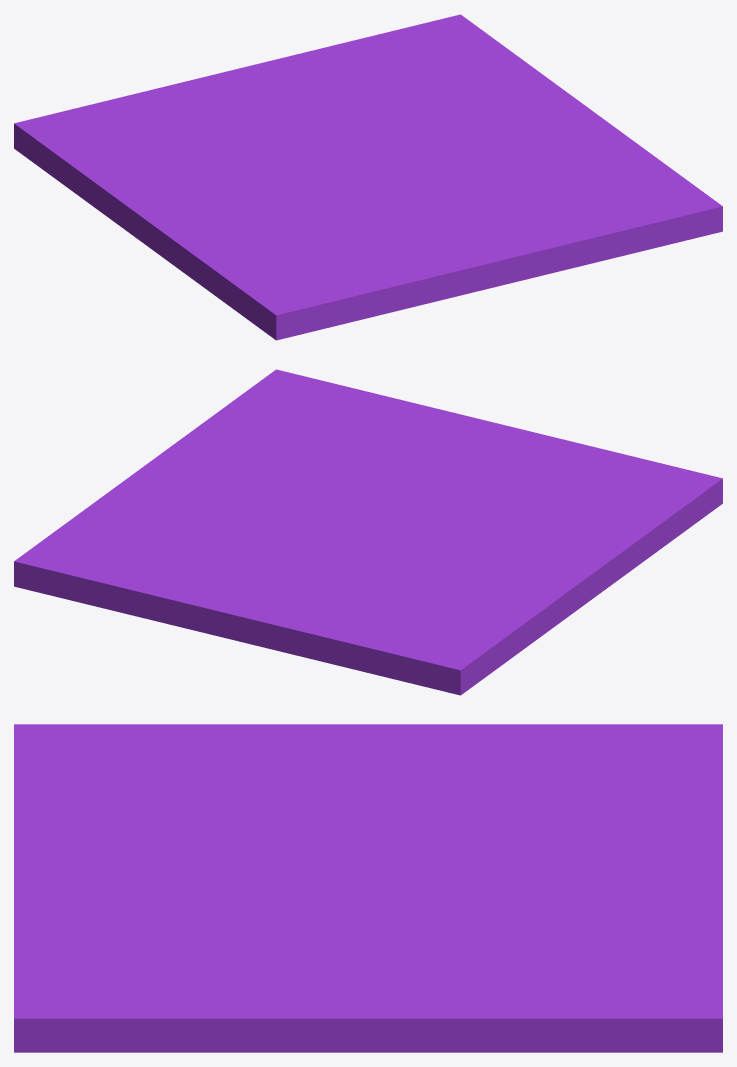
File: Window_173_chunks.fbx
The picture shows the model from 3 angles, top to bottom: view 1: azimuth 30°, elevation 25°; view 2: azimuth 150°, elevation 25°; view 3: azimuth 270°, elevation 25°; orthographic projection. The views are drawn at different scales.
Visible parts, largest first — view 1: Window_173_5, Window_173_17, Window_173_3, Window_173_4, Window_173_34, Window_173_15, Window_173_9, Window_173_0, Window_173_11, Window_173_14, Window_173_18, Window_173_32 (+18 smaller); view 2: Window_173_5, Window_173_3, Window_173_4, Window_173_34, Window_173_9, Window_173_0, Window_173_11, Window_173_17, Window_173_18, Window_173_32, Window_173_31, Window_173_14 (+19 smaller); view 3: Window_173_4, Window_173_5, Window_173_3, Window_173_9, Window_173_31, Window_173_34, Window_173_17, Window_173_0, Window_173_33, Window_173_11, Window_173_18, Window_173_32 (+17 smaller).
Part boxes in pixels (x1=…): Window_173_5: x1=14, y1=95, x2=191, y2=218; Window_173_17: x1=534, y1=187, x2=722, y2=262; Window_173_3: x1=223, y1=36, x2=424, y2=113; Window_173_4: x1=373, y1=14, x2=547, y2=98; Window_173_34: x1=126, y1=166, x2=246, y2=275; Window_173_15: x1=398, y1=231, x2=593, y2=304; Window_173_9: x1=459, y1=165, x2=696, y2=202; Window_173_0: x1=244, y1=175, x2=432, y2=245; Window_173_11: x1=204, y1=243, x2=318, y2=316; Window_173_14: x1=319, y1=236, x2=420, y2=317; Window_173_18: x1=400, y1=207, x2=536, y2=274; Window_173_32: x1=398, y1=120, x2=528, y2=164; Window_173_5: x1=345, y1=585, x2=573, y2=682; Window_173_3: x1=102, y1=532, x2=285, y2=644; Window_173_4: x1=14, y1=497, x2=204, y2=618; Window_173_34: x1=461, y1=527, x2=655, y2=599; Window_173_9: x1=220, y1=388, x2=369, y2=486; Window_173_0: x1=394, y1=469, x2=594, y2=525; Window_173_11: x1=568, y1=480, x2=719, y2=552; Window_173_17: x1=251, y1=369, x2=427, y2=433; Window_173_18: x1=375, y1=426, x2=578, y2=469; Window_173_32: x1=228, y1=461, x2=350, y2=531; Window_173_31: x1=165, y1=411, x2=287, y2=482; Window_173_14: x1=495, y1=448, x2=659, y2=494; Window_173_4: x1=460, y1=944, x2=722, y2=1052; Window_173_5: x1=420, y1=724, x2=722, y2=799; Window_173_3: x1=491, y1=862, x2=722, y2=960; Window_173_9: x1=67, y1=903, x2=306, y2=1052; Window_173_31: x1=167, y1=950, x2=409, y2=1052; Window_173_34: x1=196, y1=724, x2=487, y2=796; Window_173_17: x1=14, y1=908, x2=129, y2=1052; Window_173_0: x1=143, y1=756, x2=344, y2=867; Window_173_33: x1=314, y1=954, x2=490, y2=1052; Window_173_11: x1=22, y1=724, x2=229, y2=788; Window_173_18: x1=41, y1=812, x2=176, y2=921; Window_173_32: x1=260, y1=889, x2=472, y2=958.
Bounding box in the file's own units: 1129 × 60.81 × 1149.
